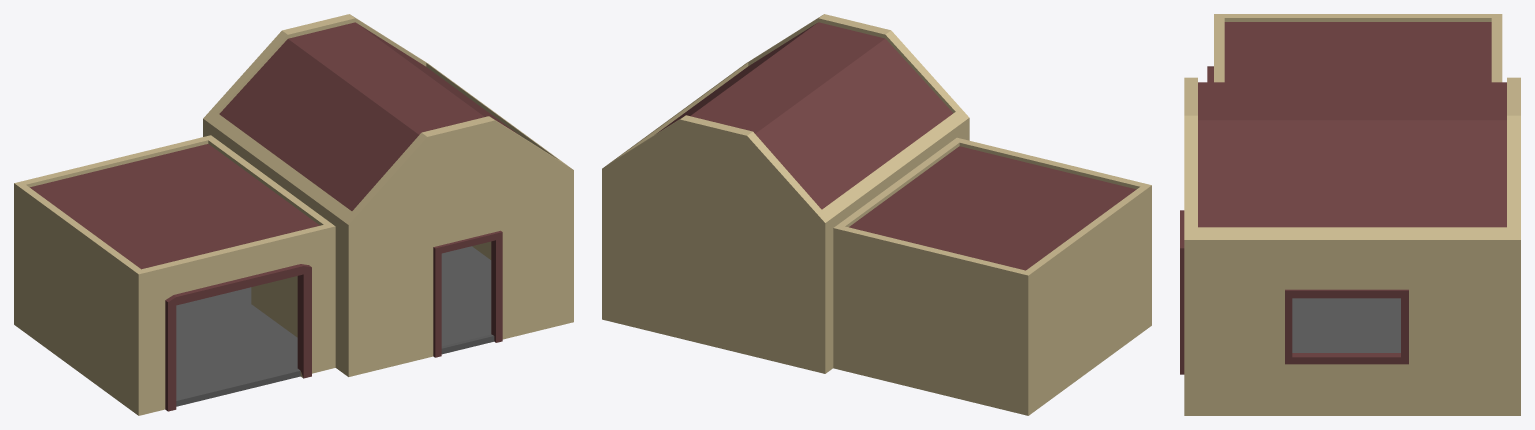
Rendered from SmallHouse1-1.fbx.
3 renders of one model, left to right at view 1: azimuth 30°, elevation 25°; view 2: azimuth 150°, elevation 25°; view 3: azimuth 270°, elevation 25°, orthographic. The views are drawn at different scales.
Visible parts, largest first — view 1: SmallHouse.000_LOD0; view 2: SmallHouse.000_LOD0; view 3: SmallHouse.000_LOD0.
Part boxes in pixels (box(x1,y1,x2,y2)): SmallHouse.000_LOD0: box(14, 14, 573, 415); SmallHouse.000_LOD0: box(602, 14, 1151, 415); SmallHouse.000_LOD0: box(1180, 14, 1520, 415).
Size of what is drawn, in the model's own units: 1927 by 960 by 1158.
Materials: 1 (1 with a texture image).
